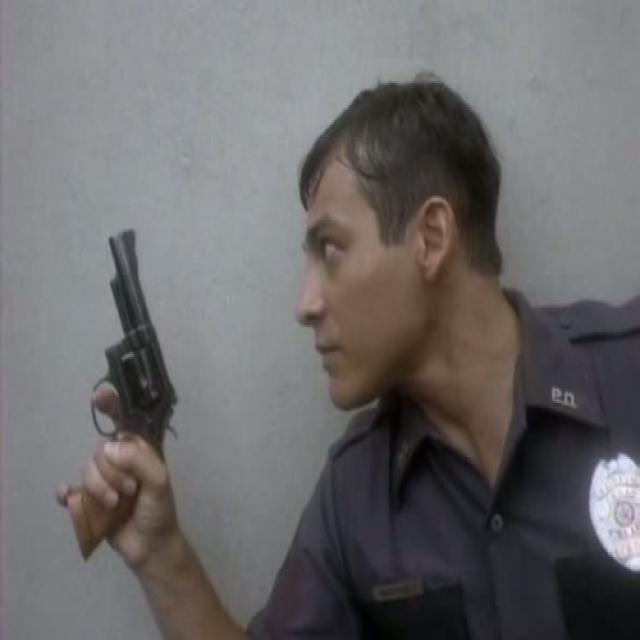weapons: (56, 208, 186, 572)
